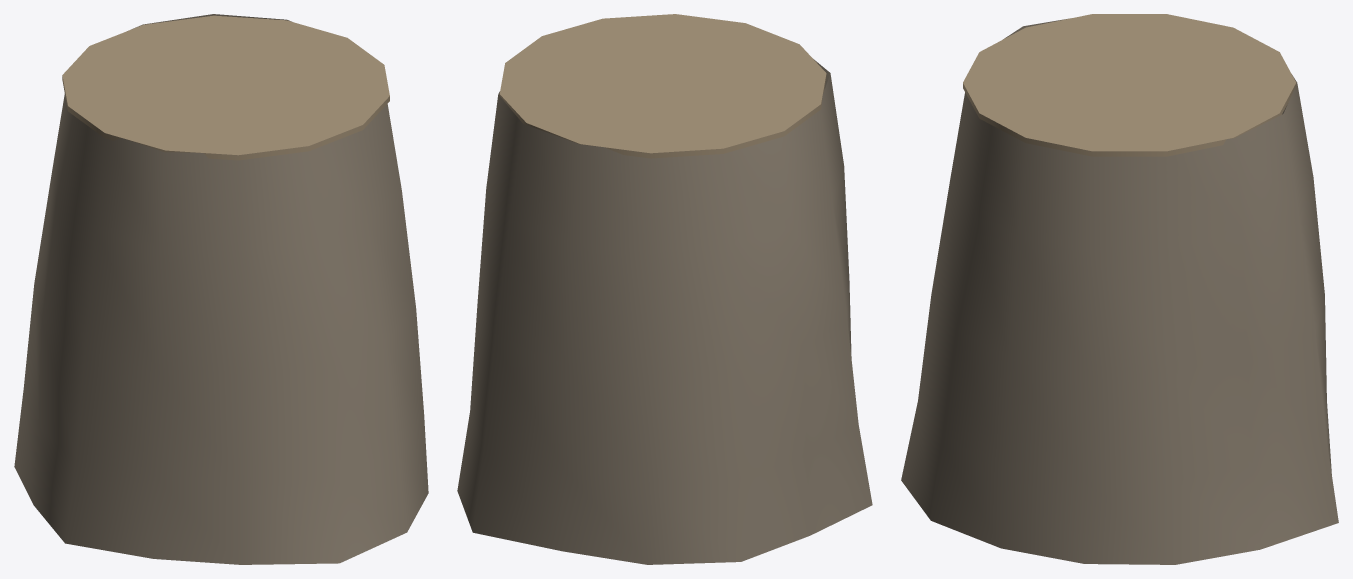
Rendered from stump.glb.
3 views of the same model, side by side, from view 1: azimuth 30°, elevation 25°; view 2: azimuth 150°, elevation 25°; view 3: azimuth 270°, elevation 25° (orthographic).
Parts seen in each view (by area): view 1: stump; view 2: stump; view 3: stump.
Boxes of the visible parts, <box> form: stump: <box>14,14,428,564</box>; stump: <box>457,14,872,564</box>; stump: <box>901,14,1338,564</box>.
Size of the model in its own units: 0.7109 by 0.75 by 0.7484.
